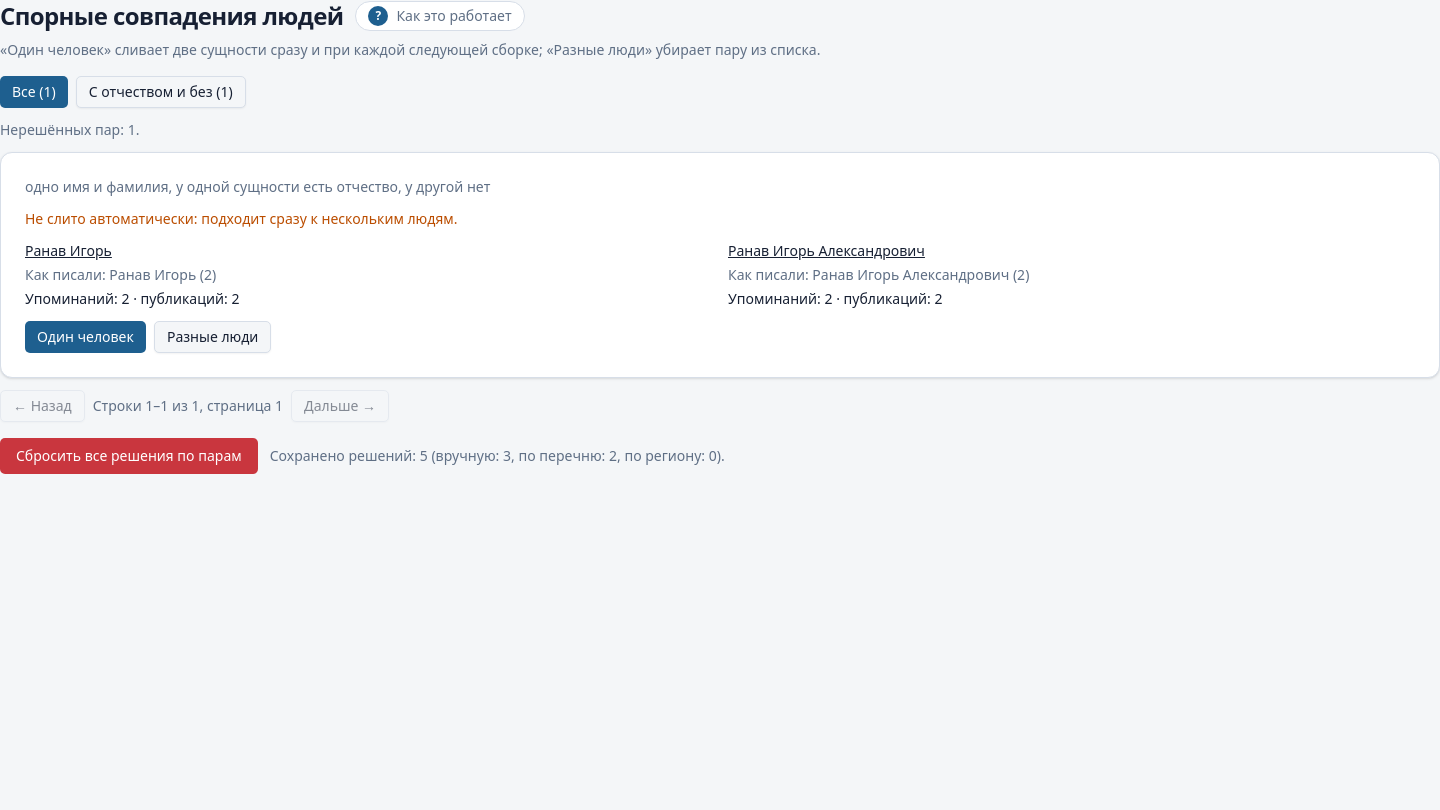
resets every decision after asking, and says how many it forgot
Expected: the text "Сохранено решений: 5 (вручную: 3, по перечню: 2, по региону: 0)." is shown, [270,446,725,466]
What coordinates should you click on to do the following:
click the button "Сбросить все решения по парам"
I would click on:
 (129, 456)
Its box is [0,438,258,474].
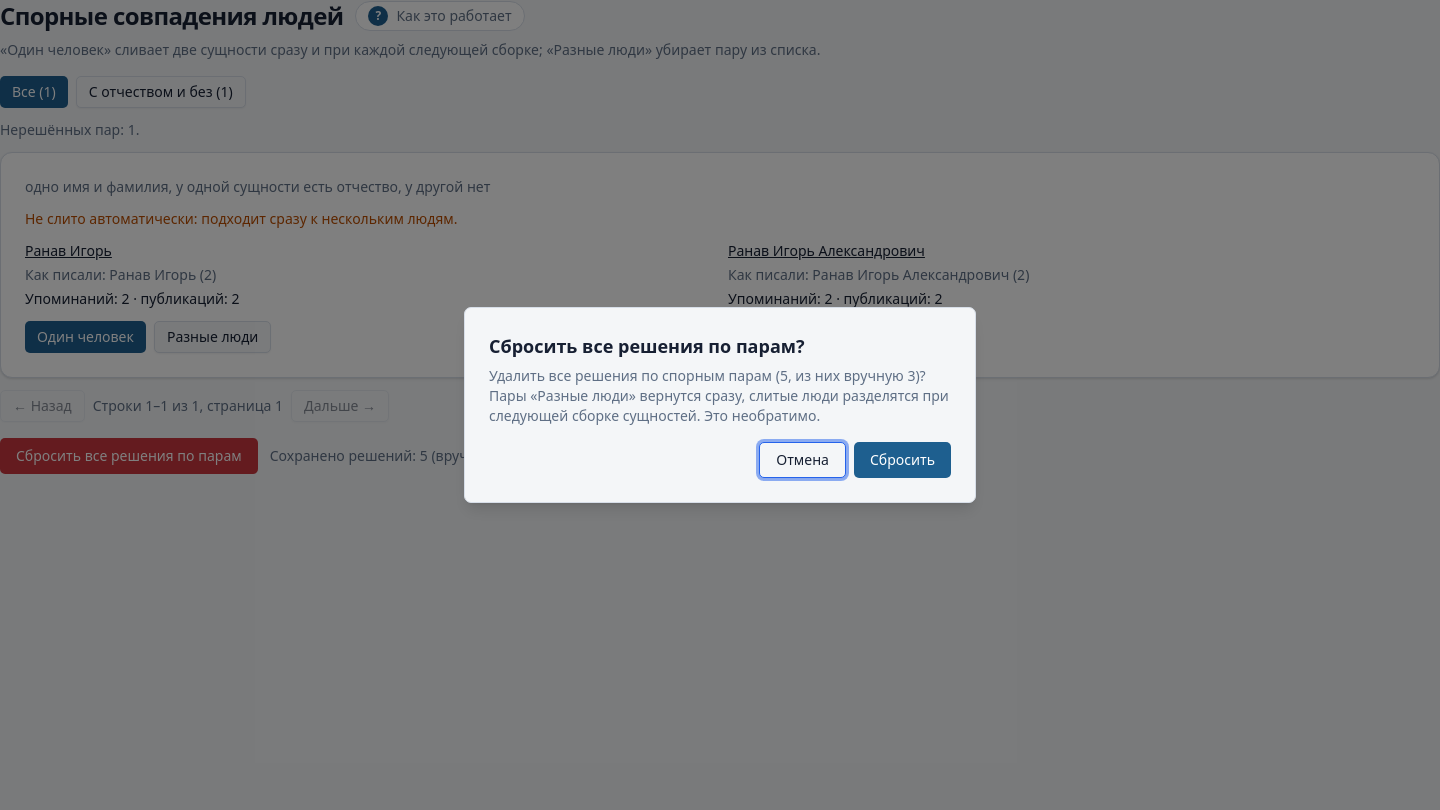
Result: the text "Удалить все решения по спорным парам (5, из них вручную 3)" is shown at [489,366,949,425]
What coordinates should you click on to do the following:
click the button "Сбросить"
I would click on:
 (902, 460)
Its box is [854,442,951,478].
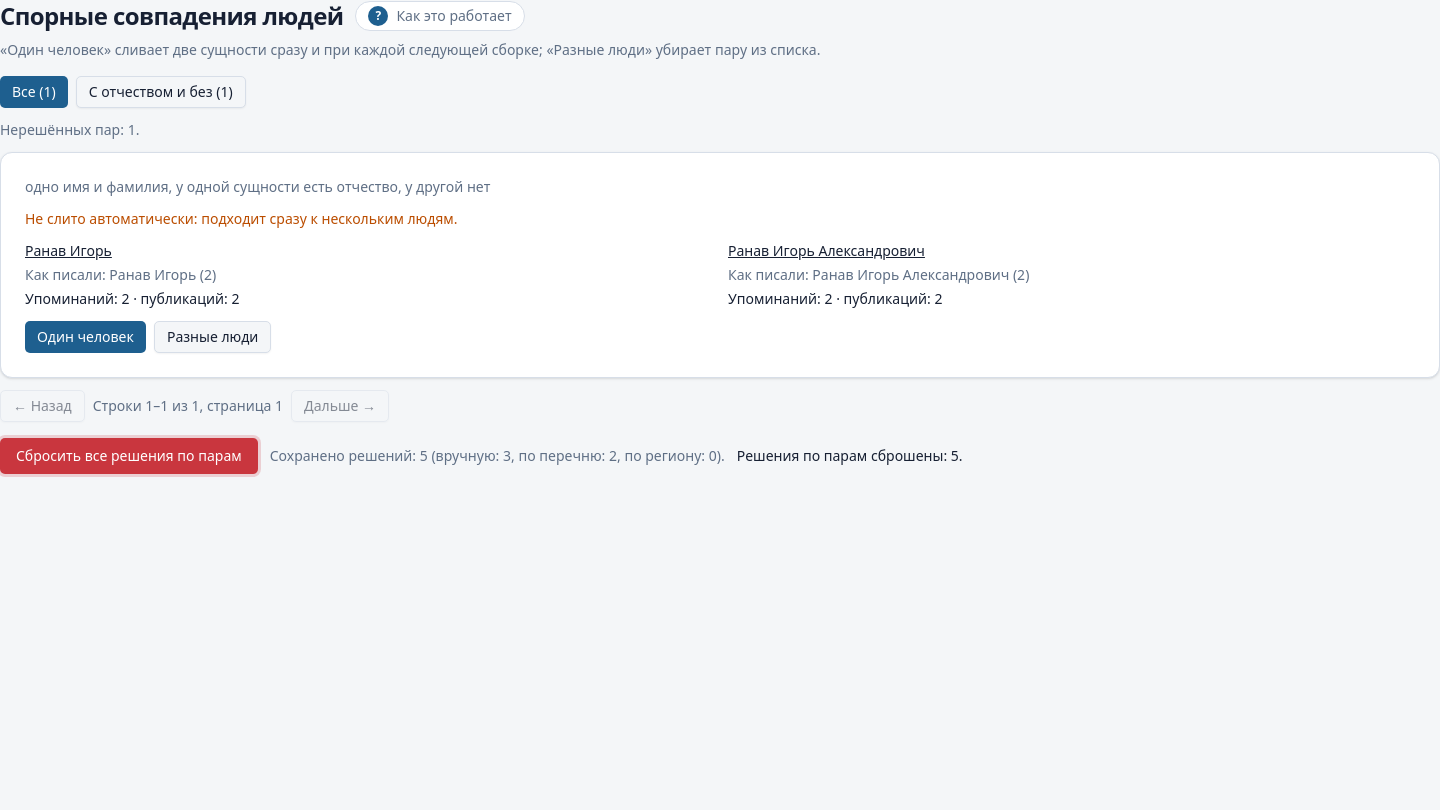
Result: the text "Решения по парам сброшены: 5." is shown at [737,446,962,466]
